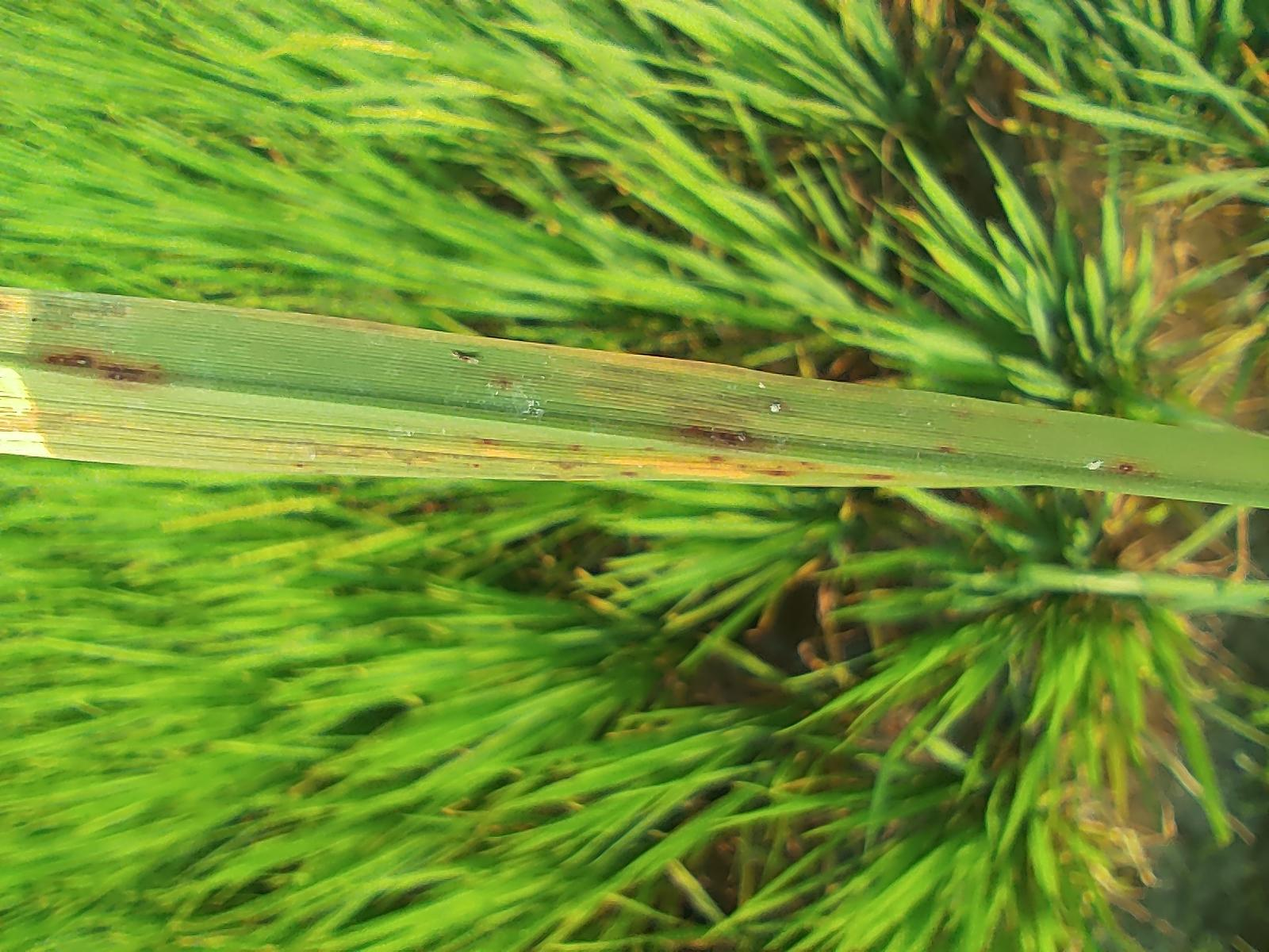LEAF: (592, 0, 883, 951)
NBS: (677, 510, 702, 566), (759, 71, 784, 110), (778, 32, 800, 68), (744, 364, 773, 389), (633, 566, 642, 598), (644, 413, 651, 446), (627, 648, 637, 671), (675, 354, 684, 376), (663, 704, 674, 718), (668, 425, 676, 438), (655, 531, 661, 542), (635, 465, 640, 478), (668, 484, 675, 492)
